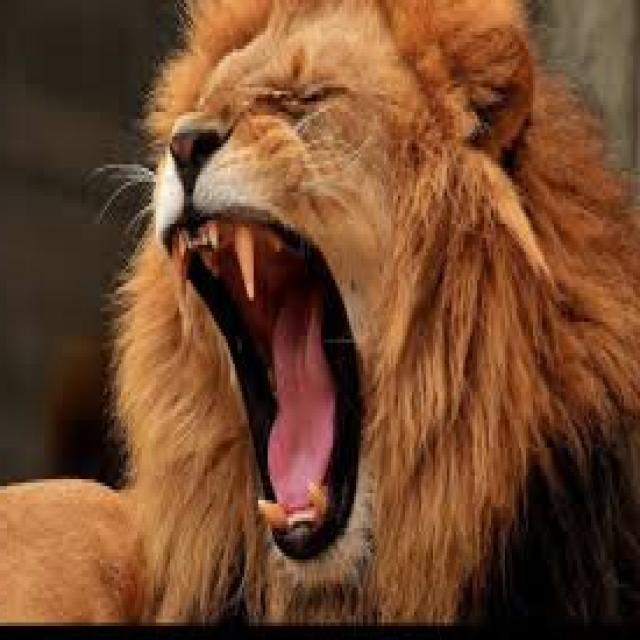lion: (2, 0, 640, 619)
